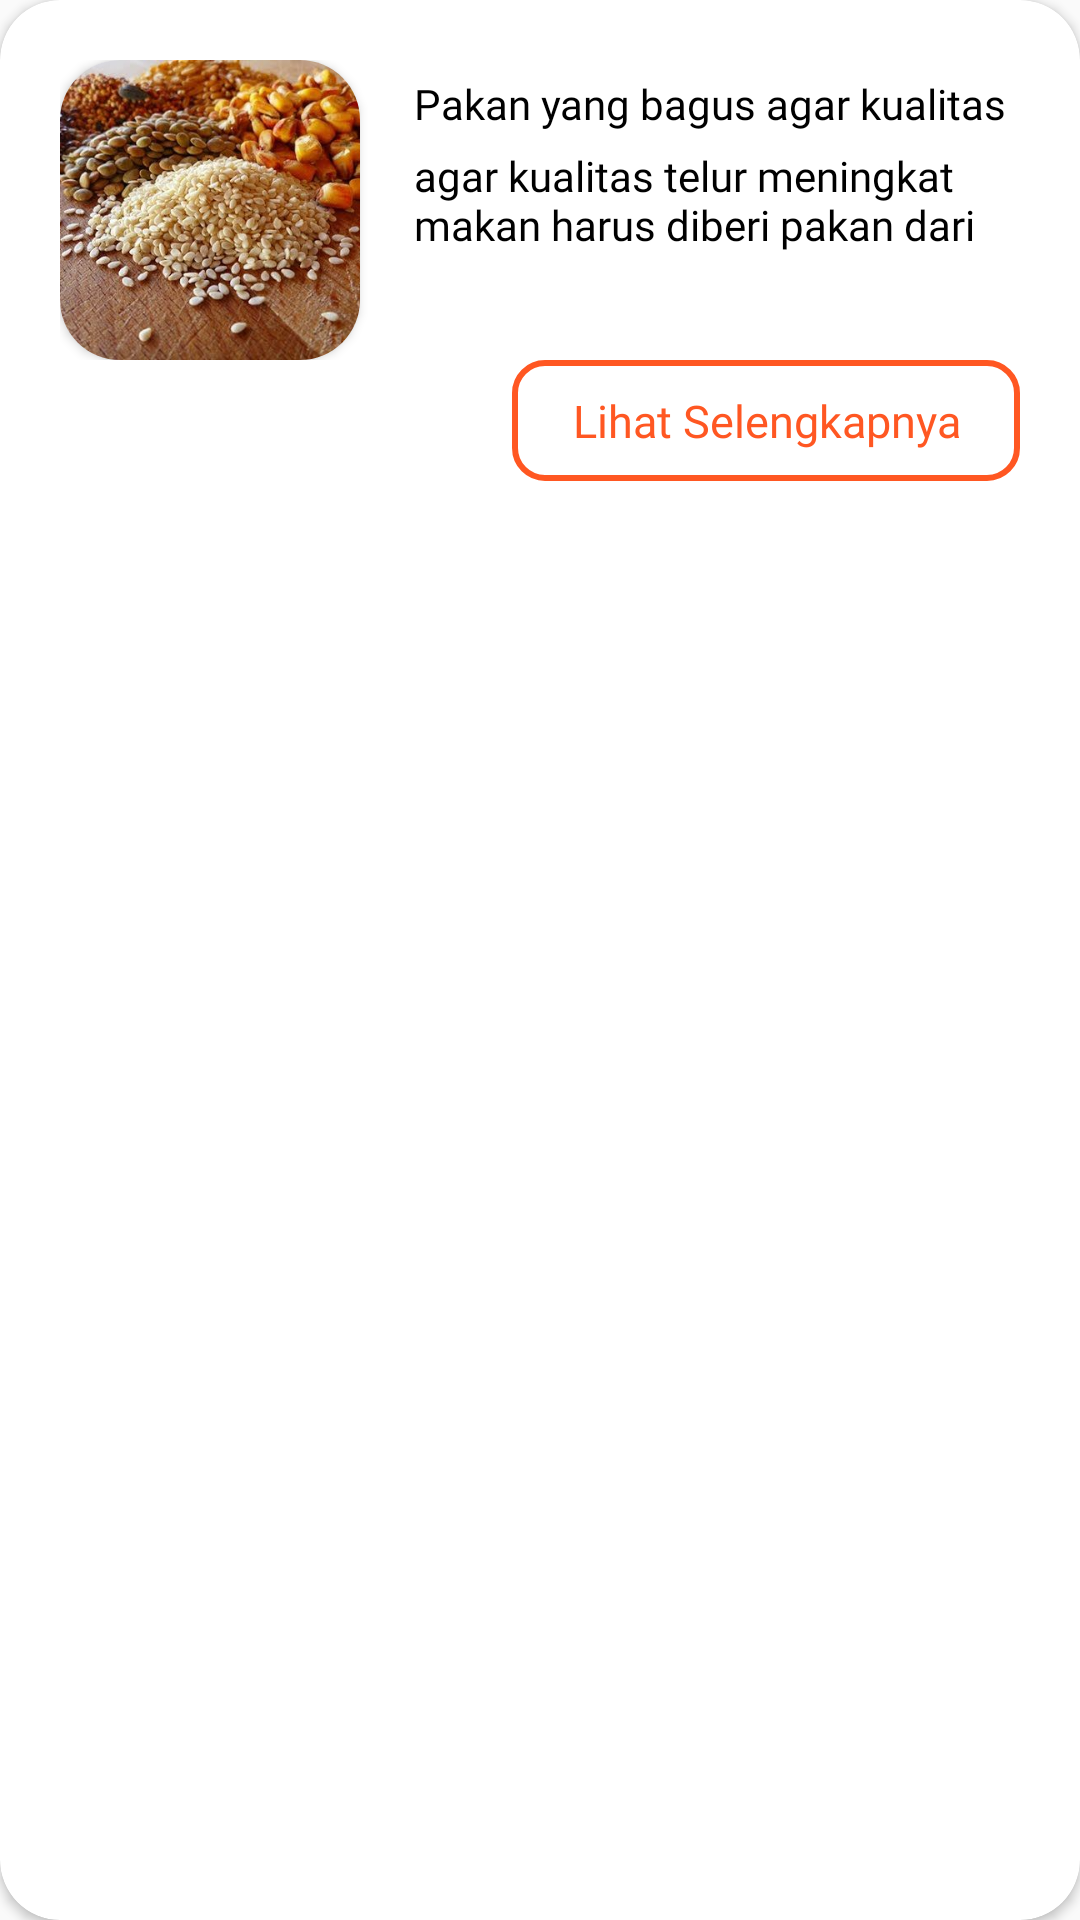

Screen size 1080w x 1920h. Icon name, then its box in pixels as box=[x1, y1, x2, y2]:
artikel kategori pakan: box=[60, 60, 360, 360]
